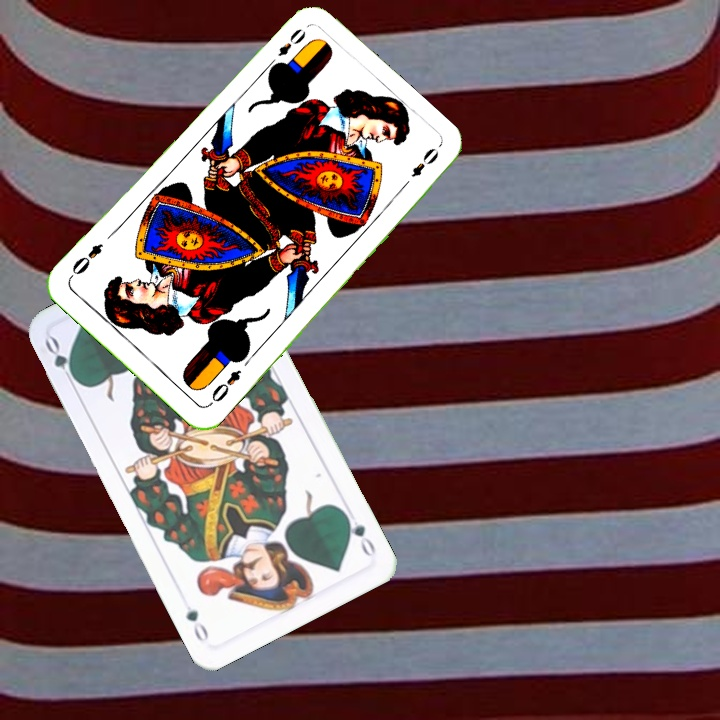EO: (263, 24, 309, 71), (205, 365, 244, 409)
GO: (41, 333, 82, 389), (339, 508, 379, 561)
